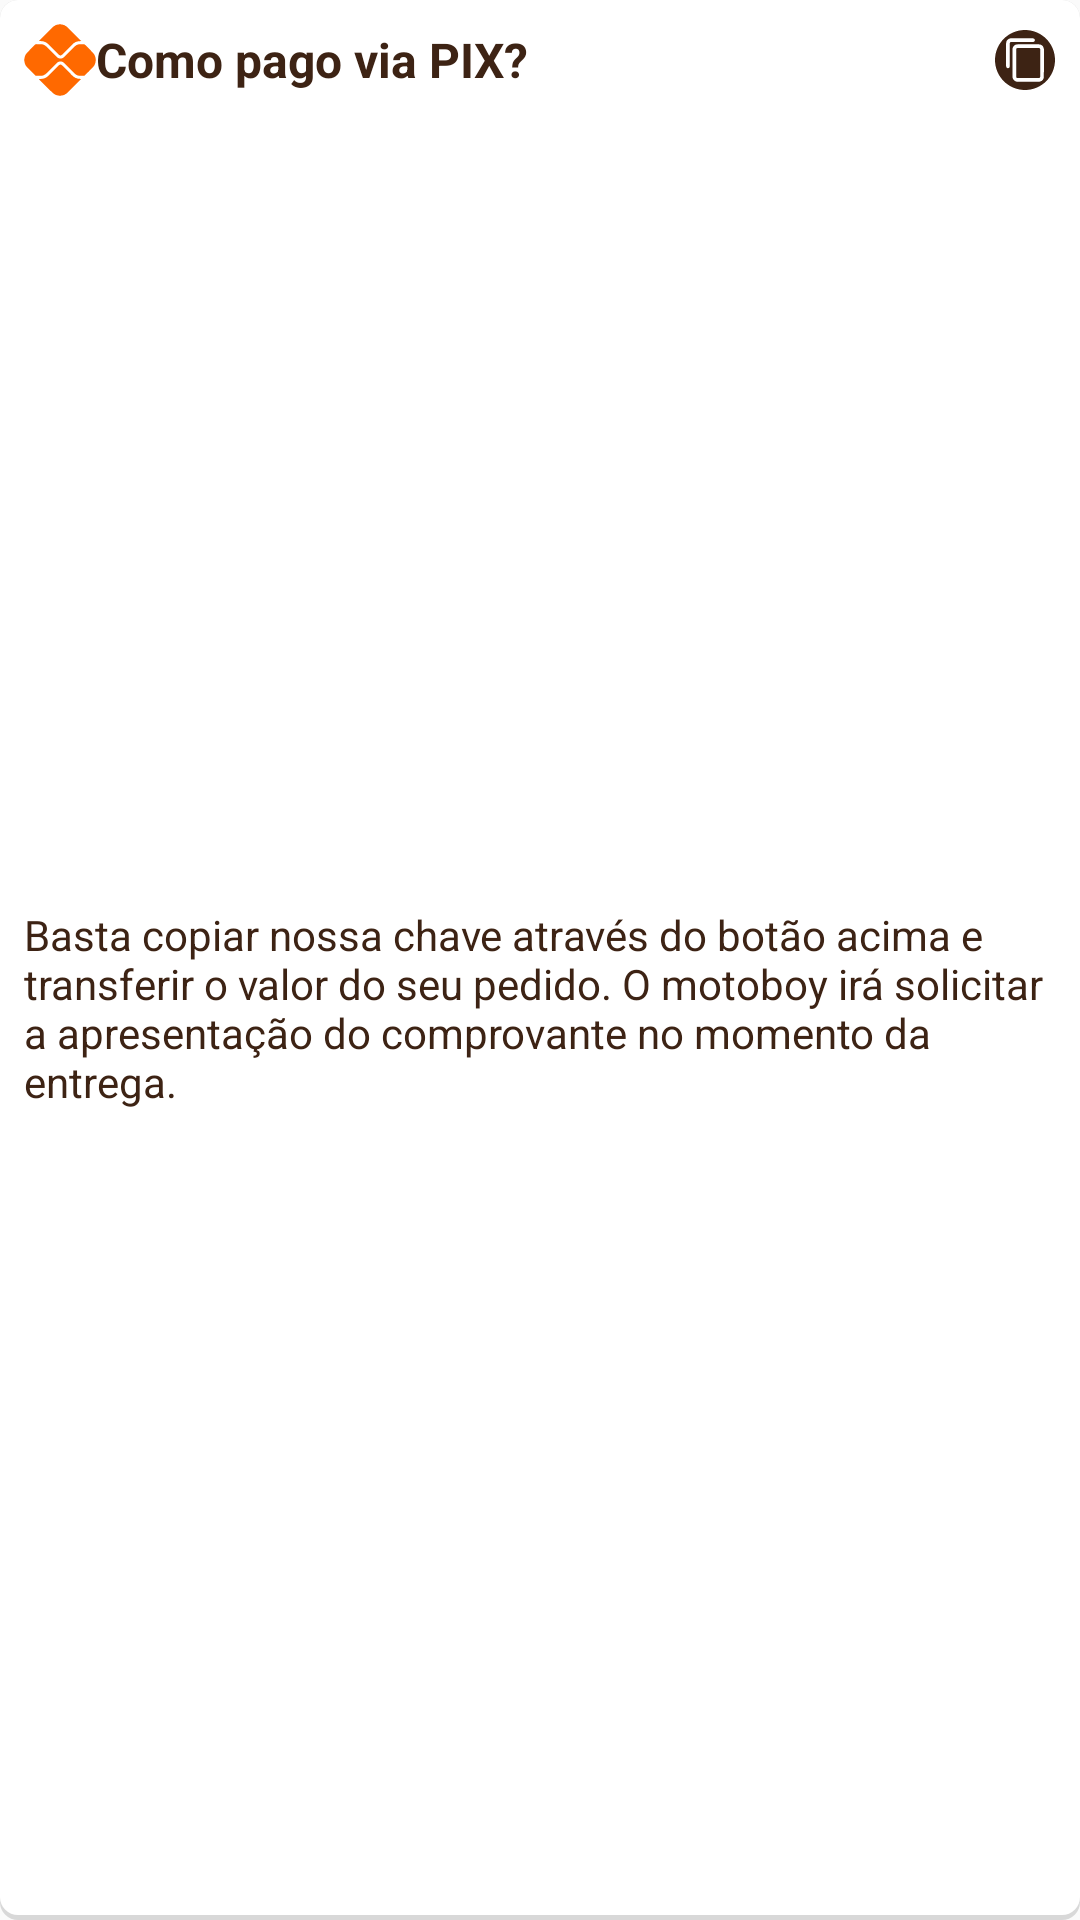

Icons on this 1080x1920 Android screen, each with its box as (x1, y1, x2, y2):
copiar vetor: (995, 30, 1055, 90)
